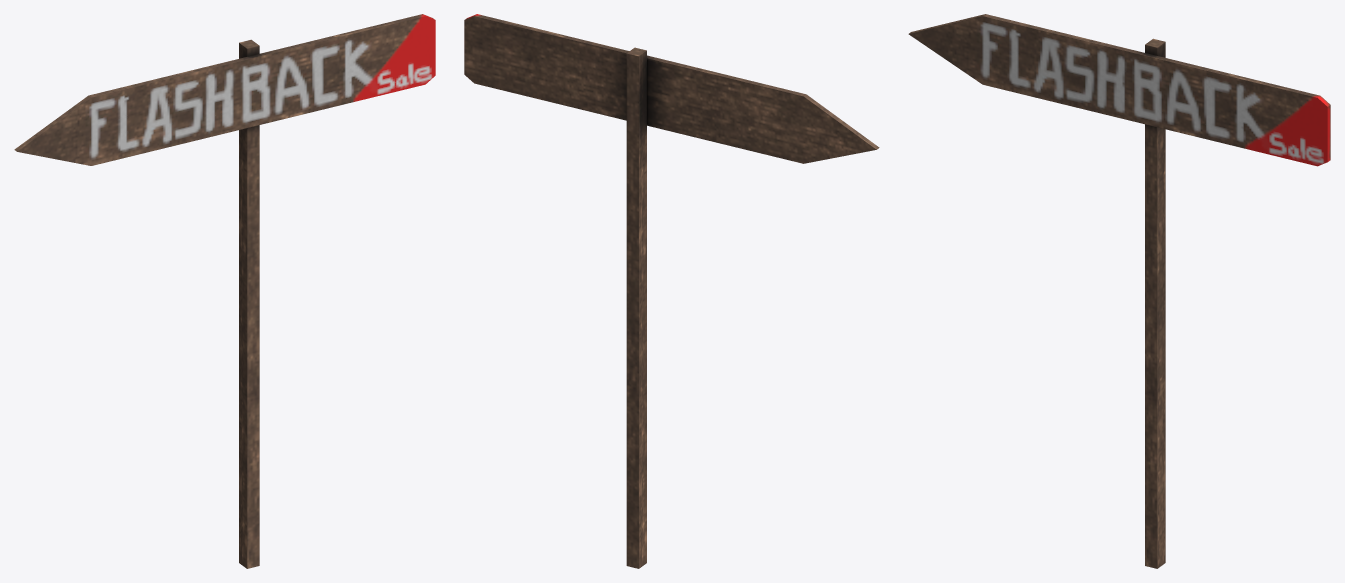
Rendered from FlashBackSaleSign.fbx.
3 views of the same model, side by side, from view 1: azimuth 30°, elevation 25°; view 2: azimuth 150°, elevation 25°; view 3: azimuth 330°, elevation 25° (orthographic).
Parts seen in each view (by area): view 1: FlashBackSaleSign; view 2: FlashBackSaleSign; view 3: FlashBackSaleSign.
Boxes of the visible parts, x1,y1,x2,y2 form: FlashBackSaleSign: (14, 14, 435, 568); FlashBackSaleSign: (464, 14, 879, 568); FlashBackSaleSign: (908, 14, 1330, 568).
Bounding box in the file's own units: 195 × 231 × 9.1.
